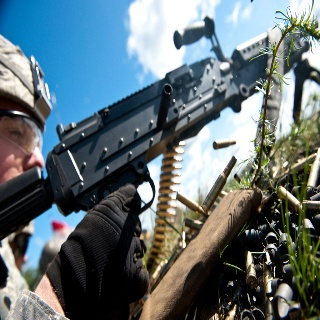rifle: (1, 14, 319, 241)
